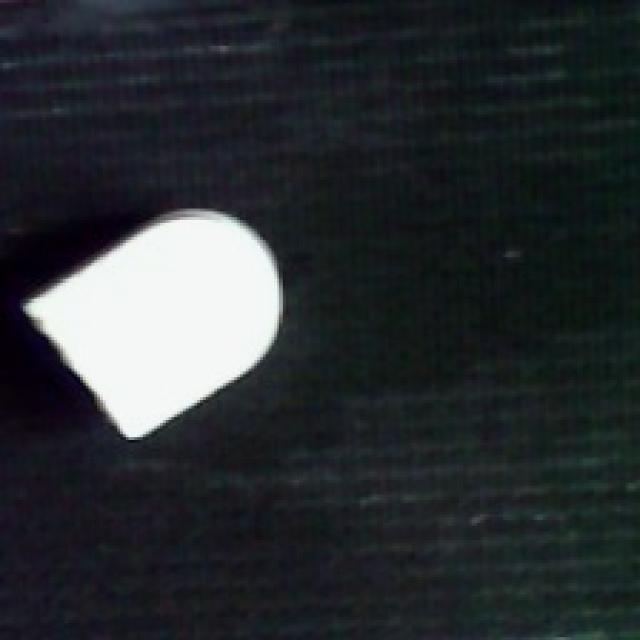defected: (17, 200, 292, 446)
